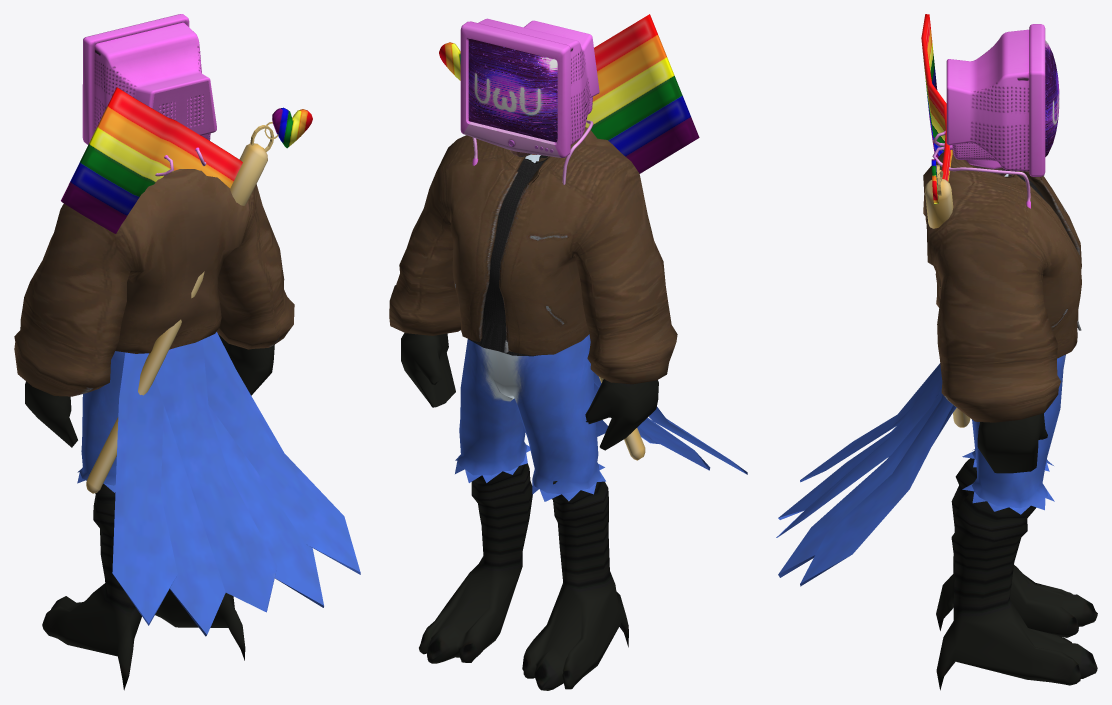
File: ThotSona.glb
3 views of the same model, side by side, from view 1: azimuth 30°, elevation 25°; view 2: azimuth 150°, elevation 25°; view 3: azimuth 270°, elevation 25° (orthographic). The views are drawn at different scales.
Parts seen in each view (by area): view 1: robiox_thought; view 2: robiox_thought; view 3: robiox_thought.
Boxes of the visible parts, <box> form: robiox_thought: <box>14,14,360,690</box>; robiox_thought: <box>389,14,747,690</box>; robiox_thought: <box>776,14,1097,690</box>.
Size of the model in its own units: 3.15 by 7.1 by 3.37.
7 materials, 7 textured.
